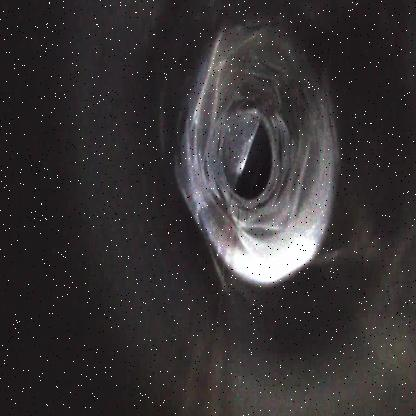Crack: (170, 16, 341, 290)
